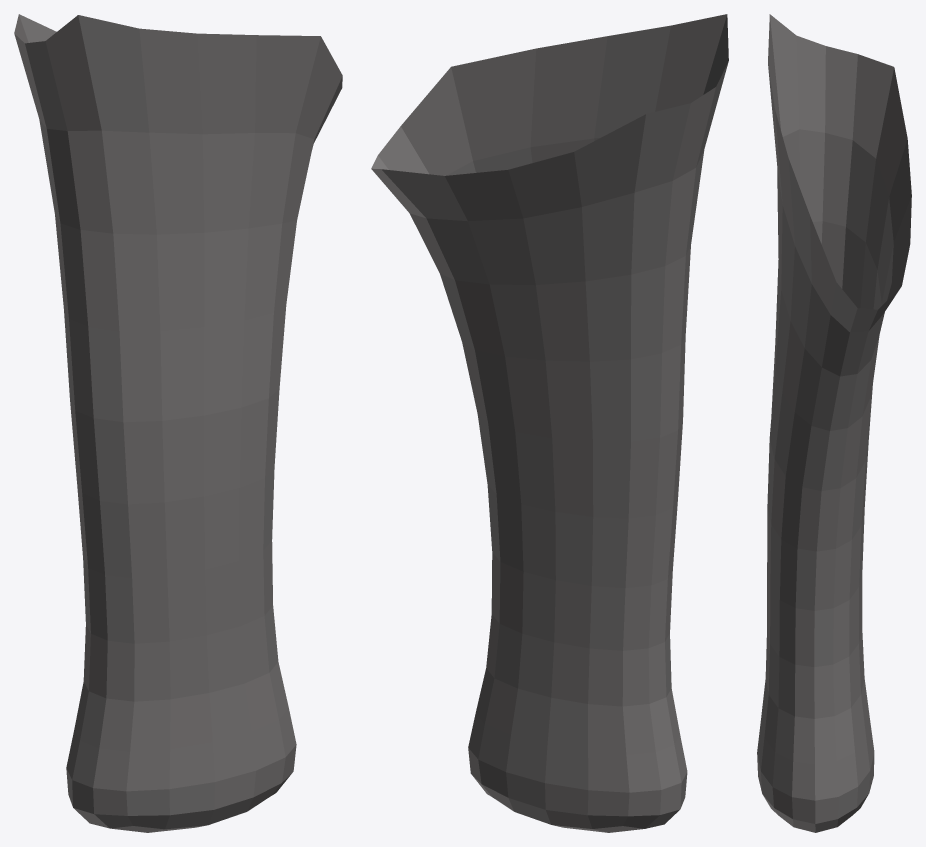
Rendered from IzqFrontDos.obj.
The picture shows the model from 3 angles, left to right: view 1: azimuth 30°, elevation 25°; view 2: azimuth 150°, elevation 25°; view 3: azimuth 270°, elevation 25°; orthographic projection. The views are drawn at different scales.
Parts seen in each view (by area): view 1: IzqFront1:Mesh1; view 2: IzqFront1:Mesh1; view 3: IzqFront1:Mesh1.
Boxes of the visible parts, x1,y1,x2,y2 form: IzqFront1:Mesh1: [14, 14, 342, 832]; IzqFront1:Mesh1: [371, 14, 728, 832]; IzqFront1:Mesh1: [757, 14, 911, 832].
Bounding box in the file's own units: 0.5639 × 1.37 × 0.2612.
Materials: 1 (1 with a texture image).
